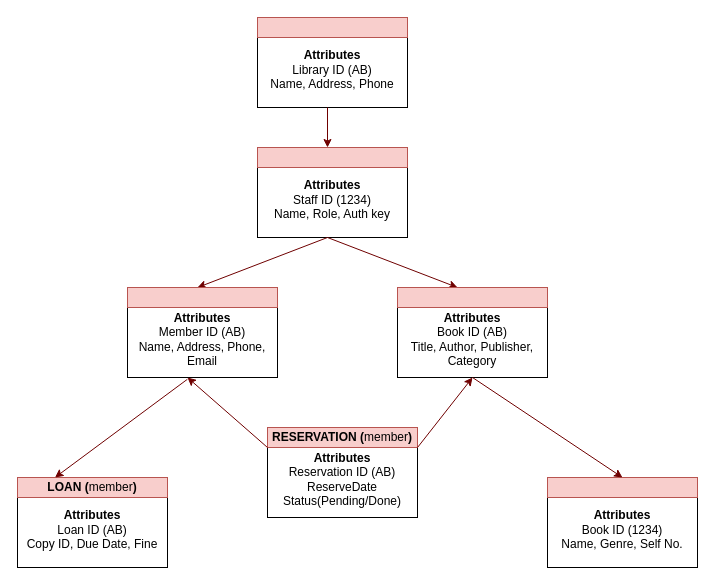
This 715x585 diagram has some shape labels left out. Here are the shapes that lost their labels. From the top down, the centre of each, then its label:
At (x=332, y=27): "LIBRARY (owner)".
At (x=332, y=157): "STAFF".
At (x=202, y=297): "MEMBERS".
At (x=472, y=297): "BOOKS".
At (x=622, y=487): "BOOK 1 (B1)".
